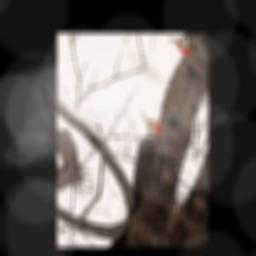Woodpecker: (109, 109, 171, 221)
